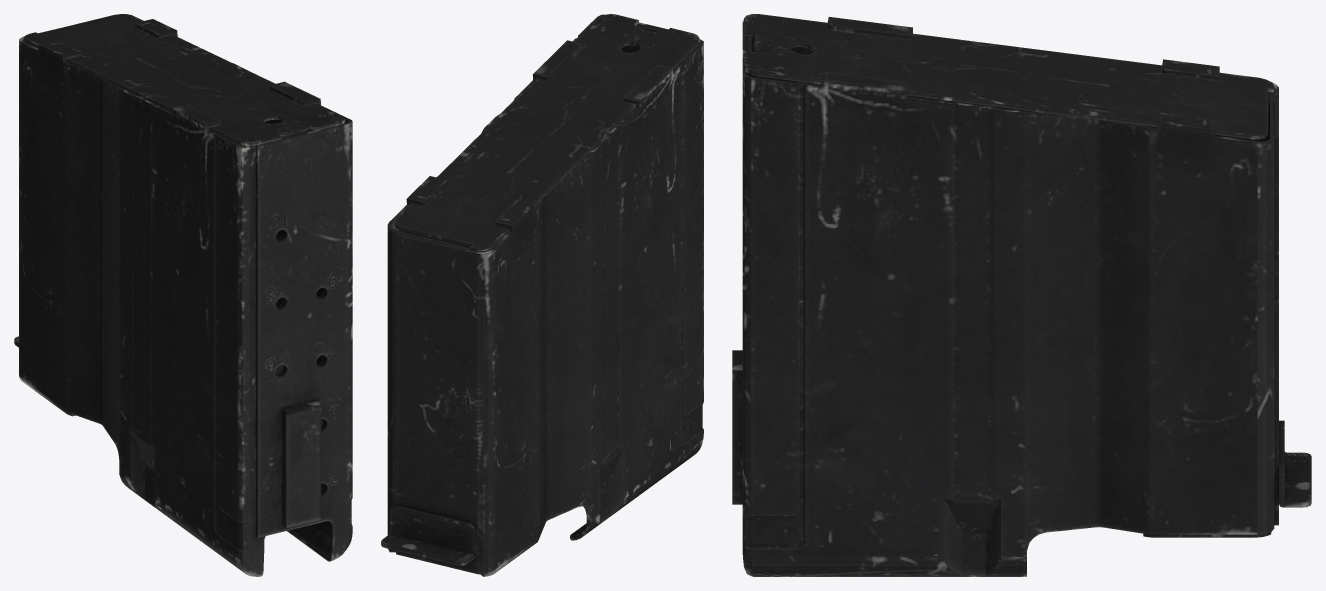
The picture shows the model from 3 angles, left to right: view 1: azimuth 30°, elevation 25°; view 2: azimuth 150°, elevation 25°; view 3: azimuth 270°, elevation 25°; orthographic projection. The views are drawn at different scales.
Parts seen in each view (by area): view 1: TW_67d418d0ffb910d21f04720e_PZ_Import; view 2: TW_67d418d0ffb910d21f04720e_PZ_Import; view 3: TW_67d418d0ffb910d21f04720e_PZ_Import.
Part boxes in pixels (<box>): TW_67d418d0ffb910d21f04720e_PZ_Import: <box>14,14,352,576</box>; TW_67d418d0ffb910d21f04720e_PZ_Import: <box>381,14,703,576</box>; TW_67d418d0ffb910d21f04720e_PZ_Import: <box>732,14,1311,576</box>.
Size of the model in its own units: 0.0238 by 0.0906 by 0.0886.
1 material, 1 textured.
